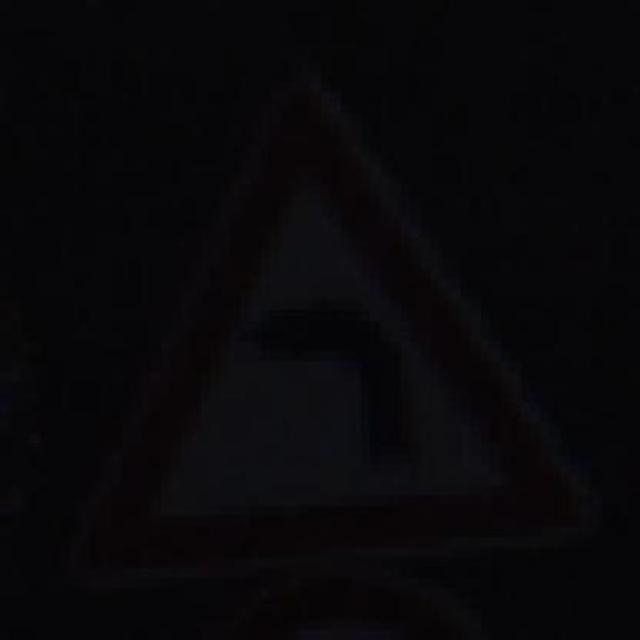Dangerous Left Curve Ahead: (59, 61, 590, 568)
